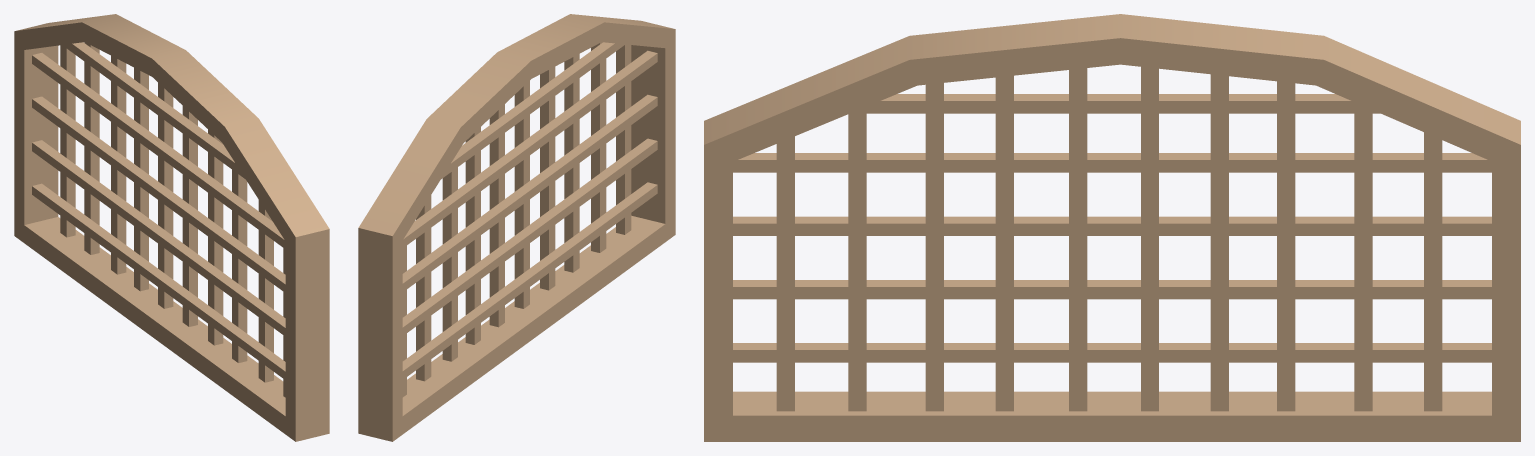
Rendered from Dest_Arena_Door.FBX.
3 renders of one model, left to right at view 1: azimuth 30°, elevation 25°; view 2: azimuth 150°, elevation 25°; view 3: azimuth 270°, elevation 25°, orthographic. The views are drawn at different scales.
Parts seen in each view (by area): view 1: Box014; view 2: Box014; view 3: Box014.
Part boxes in pixels (x1,y1,x2,y2): Box014: [14, 14, 329, 441]; Box014: [358, 14, 675, 441]; Box014: [704, 14, 1520, 441].
Size of the model in its own units: 2.73 by 21.32 by 39.07.
